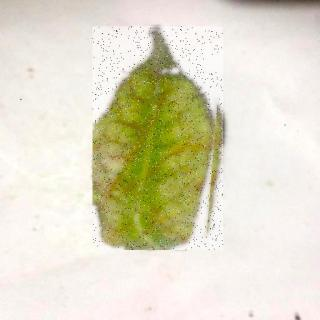Red Leaf Spot: (94, 27, 224, 251)
